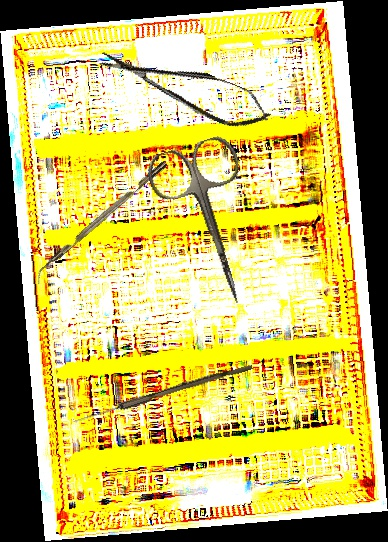Chopper: (29, 160, 174, 285)
Iris Scissors: (142, 132, 280, 317)
Micro Scissor: (93, 33, 277, 140)
Surgical Spoon: (73, 360, 253, 427)
